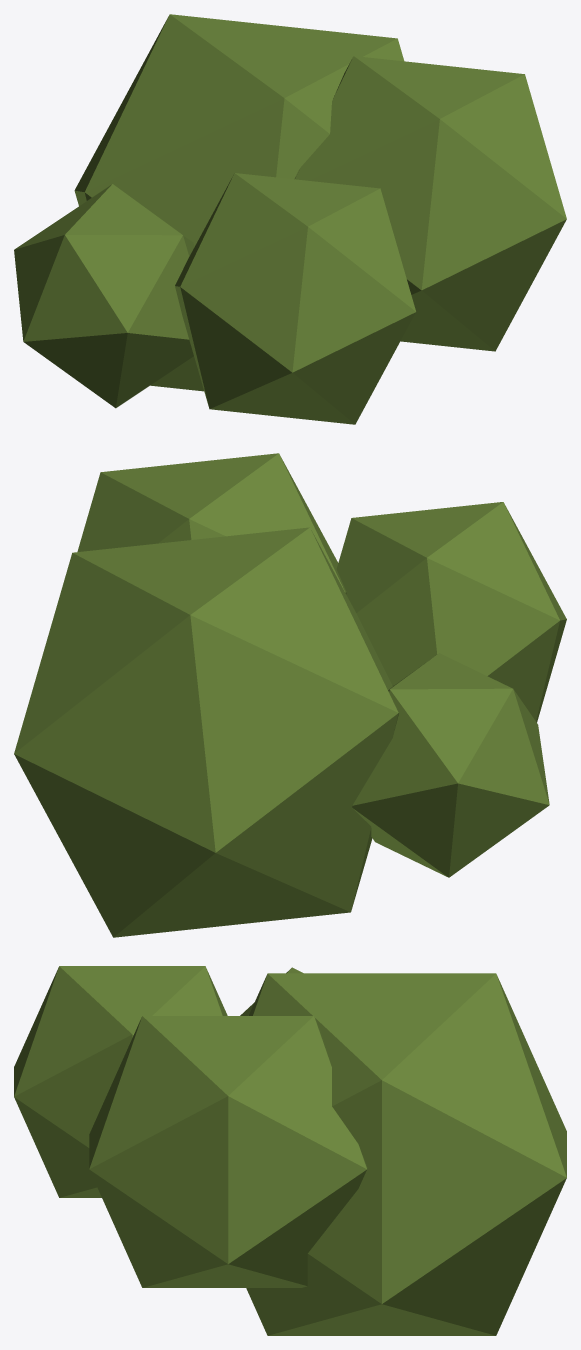
The model's file is busch_2.fbx.
The picture shows the model from 3 angles, top to bottom: view 1: azimuth 30°, elevation 25°; view 2: azimuth 150°, elevation 25°; view 3: azimuth 270°, elevation 25°; orthographic projection. The views are drawn at different scales.
Parts seen in each view (by area): view 1: Busch_2; view 2: Busch_2; view 3: Busch_2.
Part boxes in pixels (x1,y1,x2,y2): Busch_2: [14, 14, 566, 424]; Busch_2: [14, 453, 566, 937]; Busch_2: [14, 966, 566, 1335].
Bounding box in the file's own units: 0.2468 × 0.1556 × 0.237.
